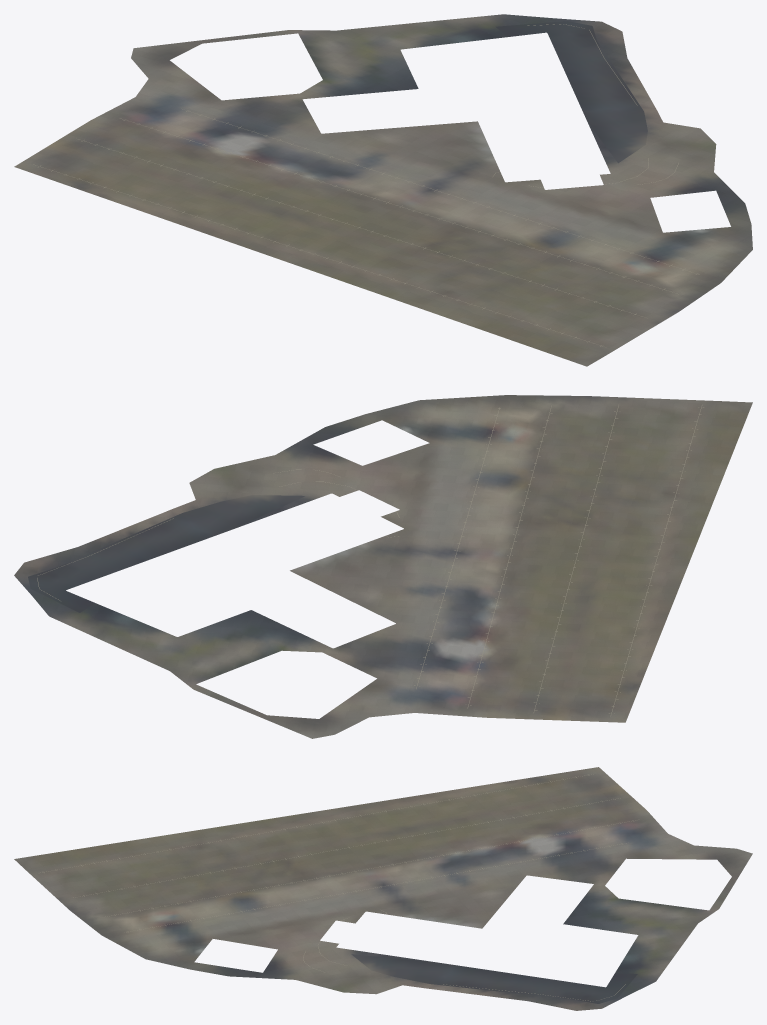
The picture shows the model from 3 angles, top to bottom: view 1: azimuth 30°, elevation 25°; view 2: azimuth 150°, elevation 25°; view 3: azimuth 270°, elevation 25°; orthographic projection. The views are drawn at different scales.
Visible parts, largest first — view 1: concrete, asphalt, South court faded guides; view 2: concrete, asphalt, South court faded guides; view 3: concrete, asphalt, South court faded guides.
Part boxes in pixels (x1,y1,x2,y2): concrete: (14, 14, 752, 366); asphalt: (496, 21, 647, 163); South court faded guides: (33, 24, 699, 346); concrete: (14, 395, 752, 738); asphalt: (28, 495, 304, 612); South court faded guides: (37, 405, 703, 716); concrete: (14, 767, 752, 1010); asphalt: (351, 954, 637, 1003); South court faded guides: (40, 774, 635, 1001).
Size of the model in its own units: 256 by 0.07 by 327.
Materials: 3 (3 with a texture image).
